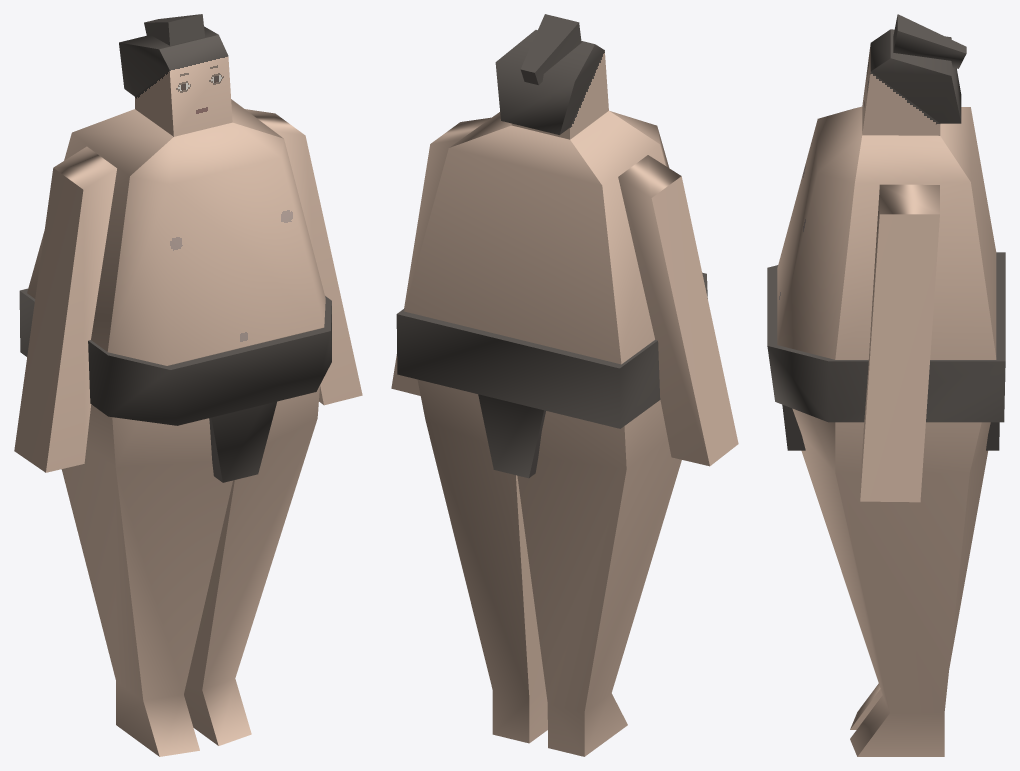
The model's file is 0589_Sumo_Wrestler.glb.
3 renders of one model, left to right at view 1: azimuth 30°, elevation 25°; view 2: azimuth 150°, elevation 25°; view 3: azimuth 270°, elevation 25°, orthographic.
Visible parts, largest first — view 1: part_0; view 2: part_0; view 3: part_0.
Part boxes in pixels (x1,y1,x2,y2): part_0: (14, 14, 362, 756); part_0: (391, 14, 738, 756); part_0: (767, 14, 1005, 756).
Size of the model in its own units: 1.25 by 2.66 by 0.8075.
1 material, 1 textured.
